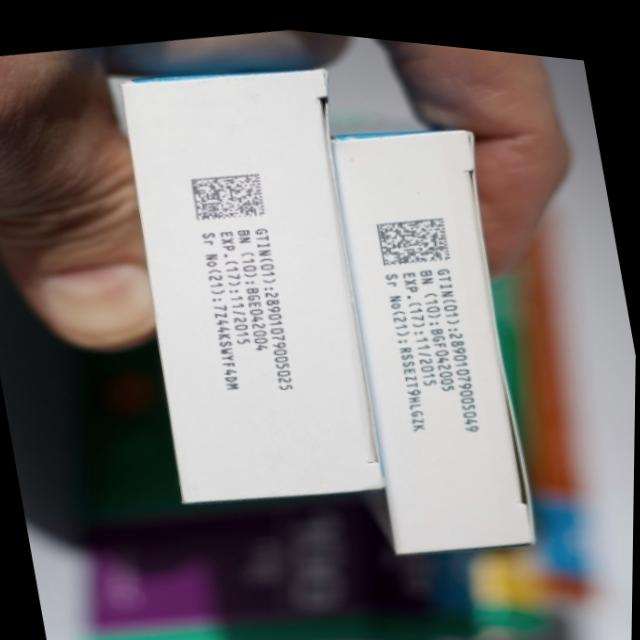datamatrix: (186, 157, 277, 228), (370, 198, 462, 268)
